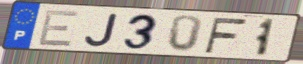0: (166, 14, 205, 54)
1: (256, 17, 278, 59)
3: (121, 12, 165, 52)
E: (36, 9, 82, 48)
F: (202, 16, 250, 54)
J: (82, 12, 121, 49)
